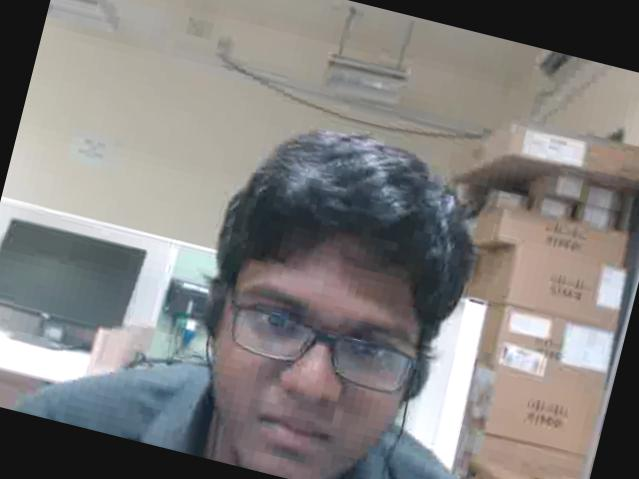bingung: (186, 219, 436, 479)
